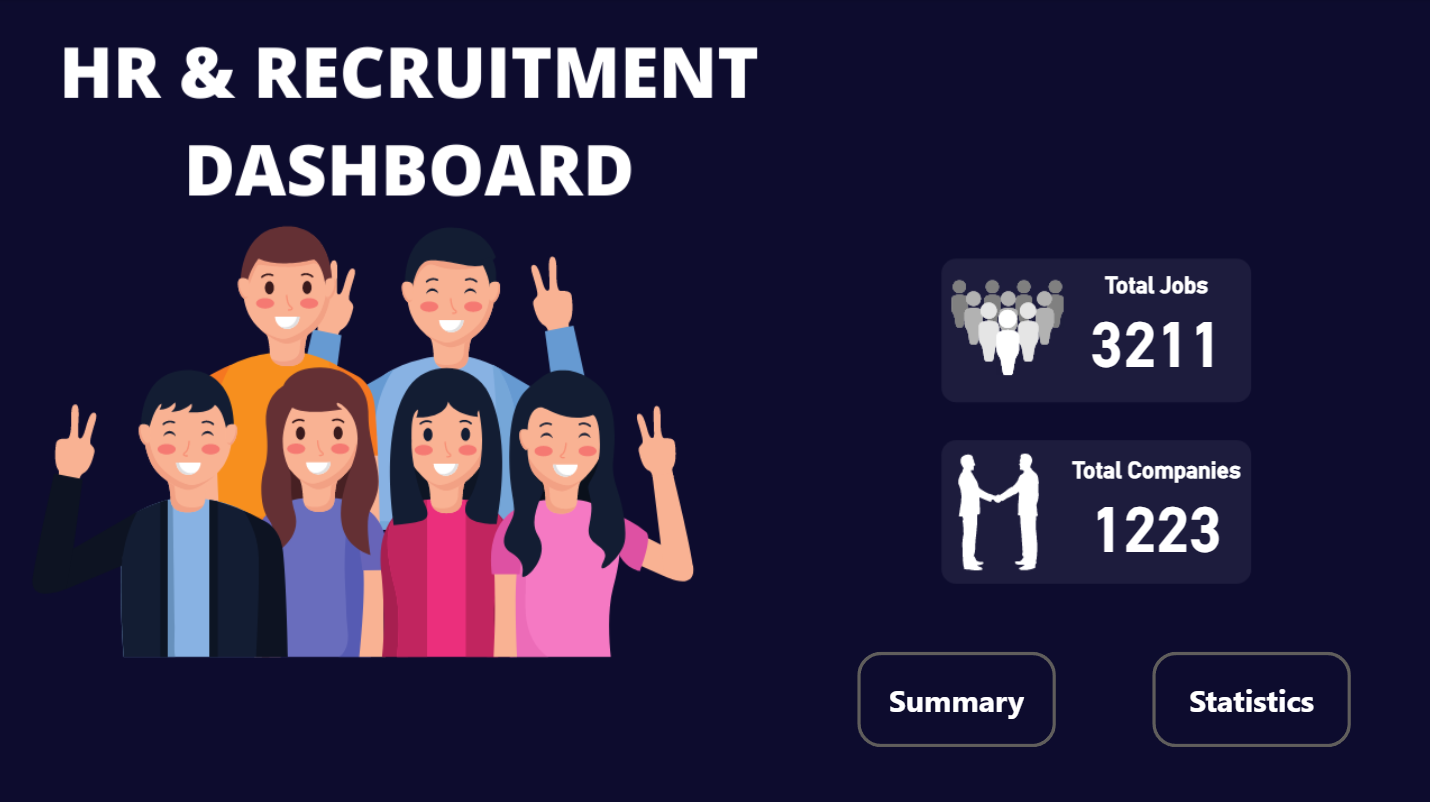

This screenshot's page, from the dashboard's own definition file:
{"tool":"powerbi","page":{"name":"Home","canvas":[1280,720],"ordinal":0},"visuals":[{"type":"actionButton","box":[767.1,581.8,177,85.1],"z":0},{"type":"actionButton","box":[1029.2,581.8,177,85.1],"z":1000},{"type":"card","title":"Total Jobs","fields":{"Values":["Measues 1.total_jobs"]},"box":[948.2,244.3,170.2,93.3],"z":2000},{"type":"card","title":"Total Companies","fields":{"Values":["Measues 1.total_company"]},"box":[948.2,408.9,170.2,93.3],"z":3000}]}

Visuals, with their boxes in screenshot pixels (x1, y1, x2, y2), scaled from the page's 1280x720 canvas onto the 1430x802 screenshot:
actionButton: box=[857, 648, 1055, 743]
actionButton: box=[1150, 648, 1348, 743]
"Total Jobs" card: box=[1059, 272, 1249, 376]
"Total Companies" card: box=[1059, 455, 1249, 559]
